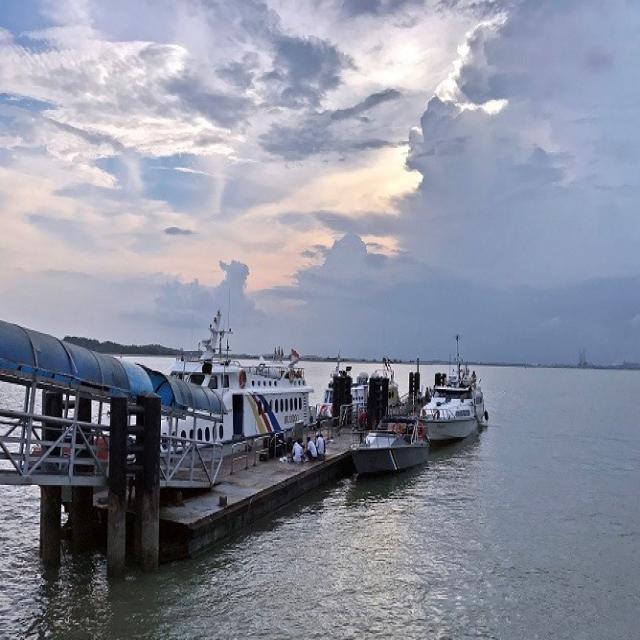houseboat: (416, 356, 490, 450), (349, 392, 422, 475)
